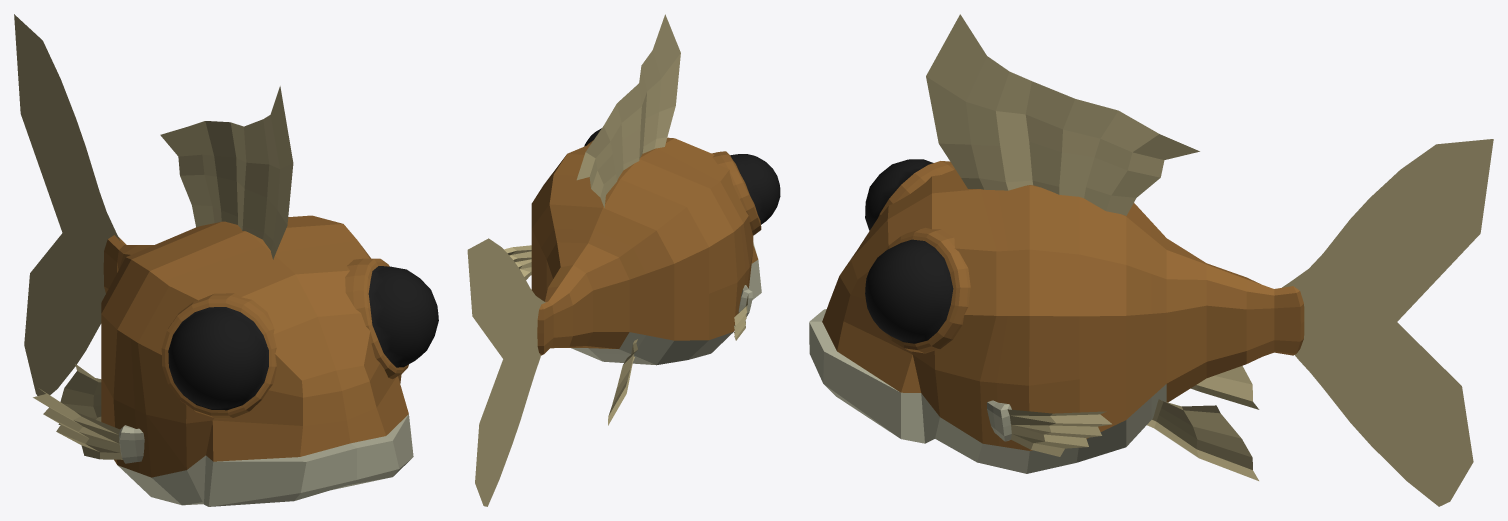
Rendered from Goldfish.glb.
3 views of the same model, side by side, from view 1: azimuth 30°, elevation 25°; view 2: azimuth 150°, elevation 25°; view 3: azimuth 270°, elevation 25° (orthographic). The views are drawn at different scales.
Parts seen in each view (by area): view 1: Goldfish; view 2: Goldfish; view 3: Goldfish.
Boxes of the visible parts, x1,y1,x2,y2 form: Goldfish: (14, 14, 438, 506); Goldfish: (467, 14, 780, 506); Goldfish: (809, 14, 1493, 506).
Size of the model in its own units: 0.3606 by 0.4925 by 0.6205.
